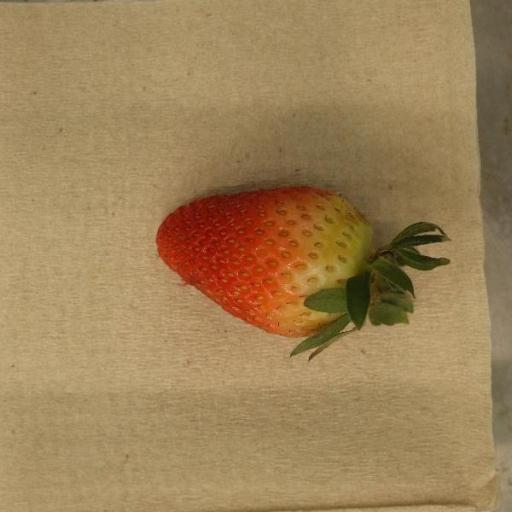Strawberry: (156, 186, 453, 360)
